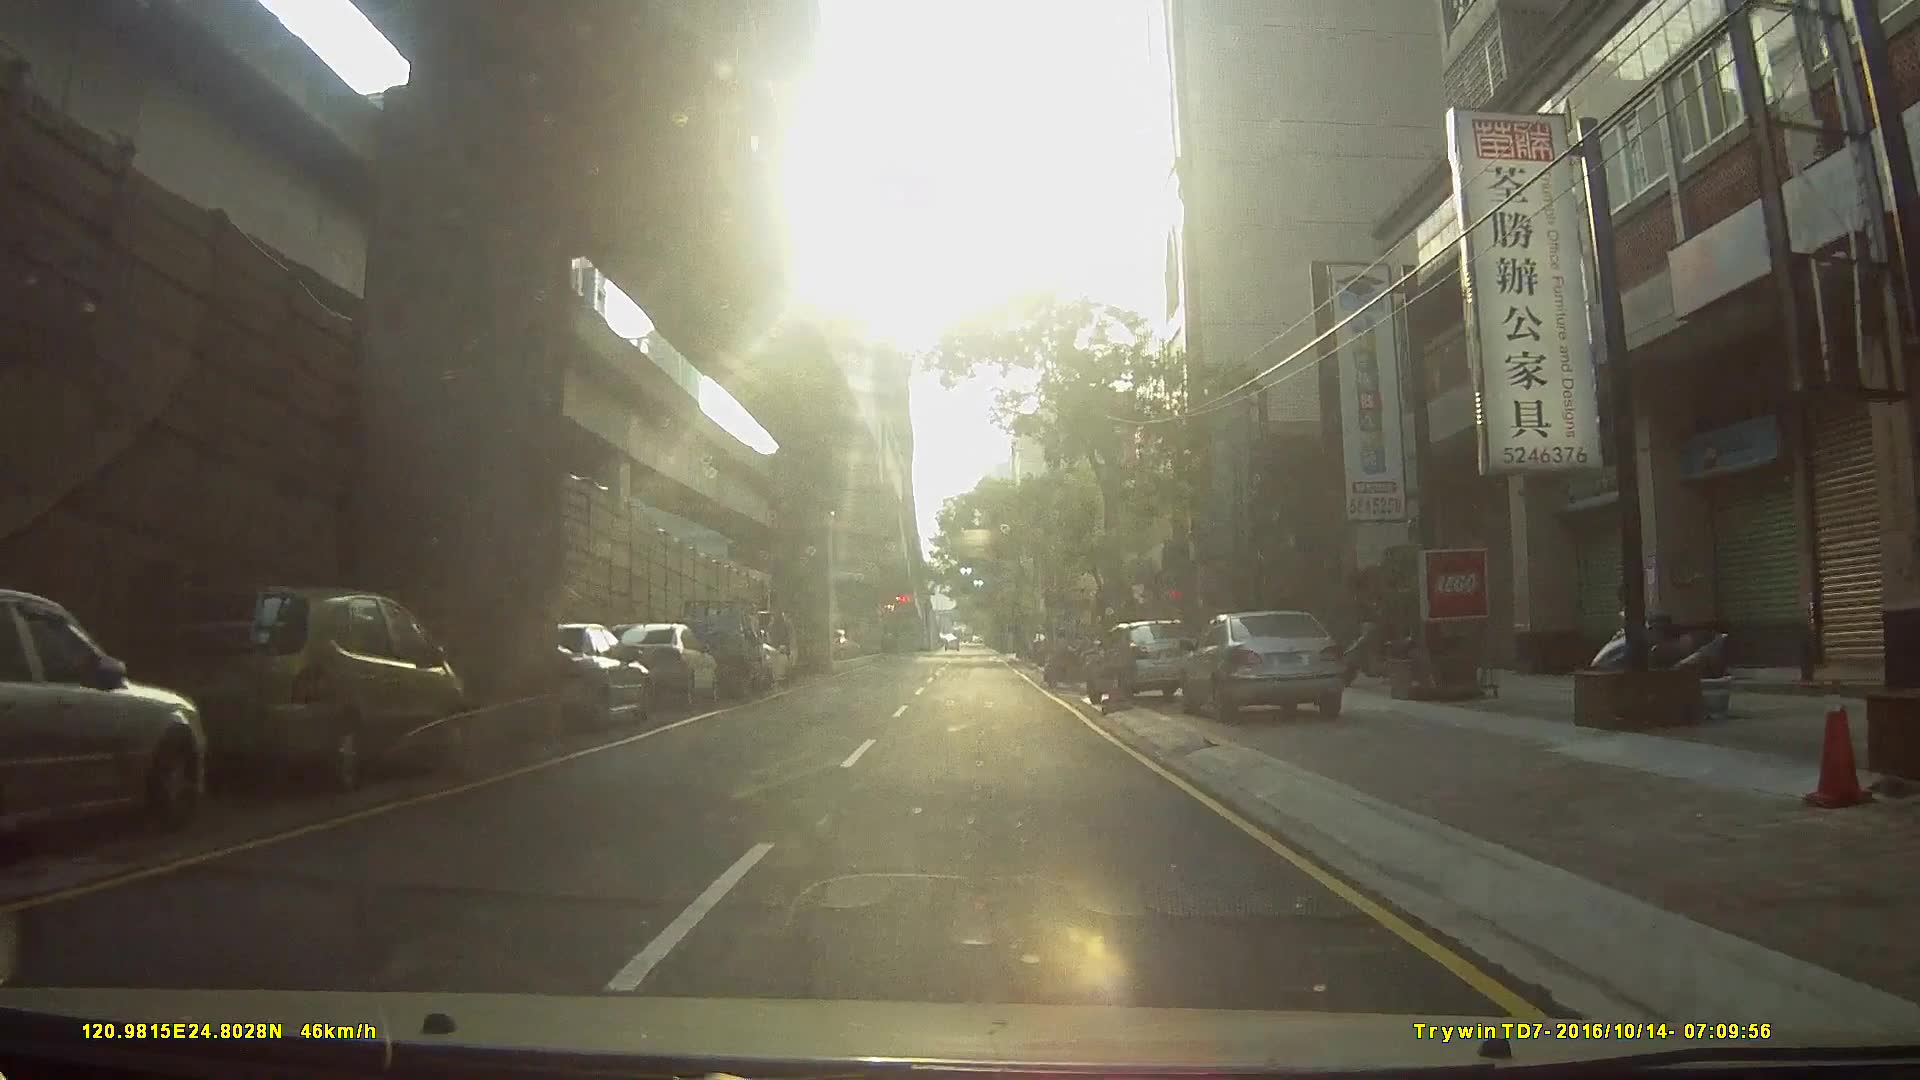rider: (1042, 627, 1093, 687)
vehicle: (138, 583, 459, 800), (1, 581, 202, 857), (1180, 607, 1355, 722), (497, 619, 651, 741), (1083, 618, 1202, 705), (664, 597, 766, 699), (597, 622, 719, 706)
